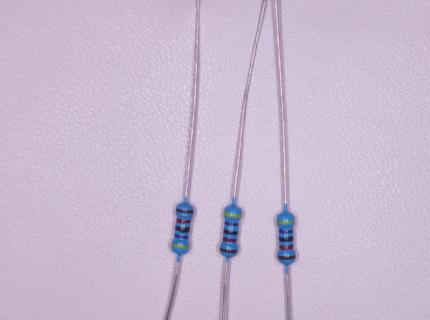Black band: (176, 226, 190, 233), (224, 229, 238, 235), (279, 236, 293, 242)
Brown band: (219, 247, 238, 254), (176, 208, 194, 214), (277, 255, 296, 260)
Red band: (176, 218, 191, 224), (223, 236, 237, 242), (280, 244, 294, 250)
Violet band: (174, 234, 188, 239), (225, 221, 239, 226), (279, 229, 293, 233)
Yellow band: (223, 212, 242, 218), (171, 244, 189, 249), (276, 220, 295, 224)
